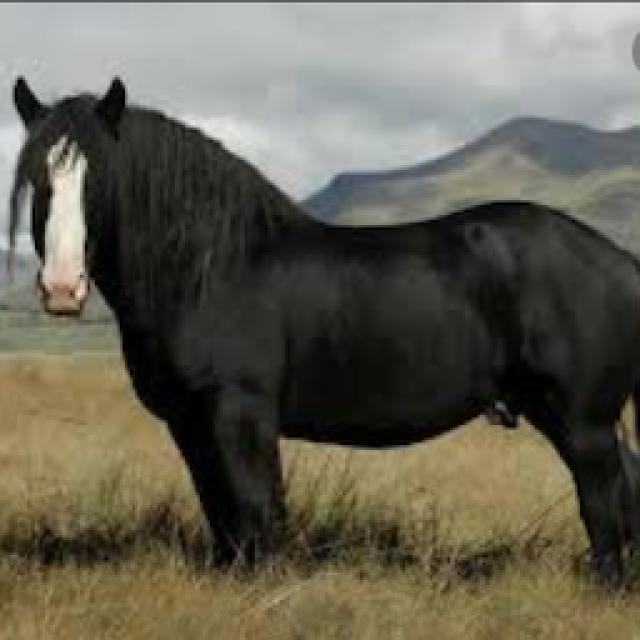Horse: (0, 62, 638, 598)
